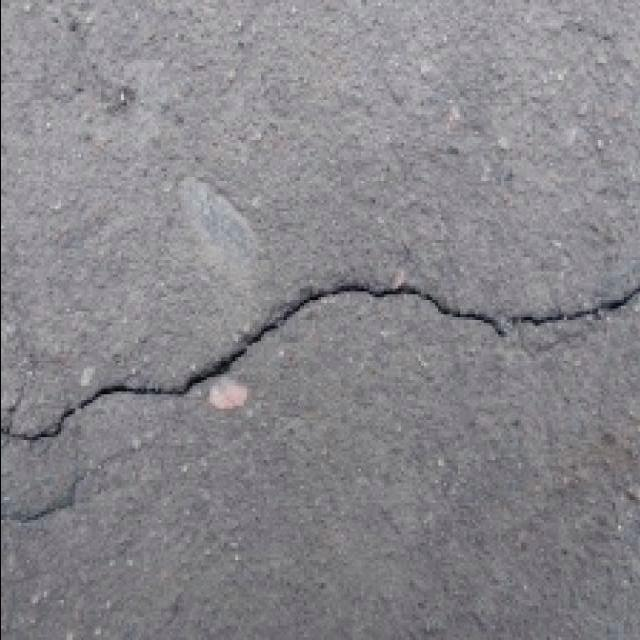SurfaceCrack: (0, 250, 636, 472)
